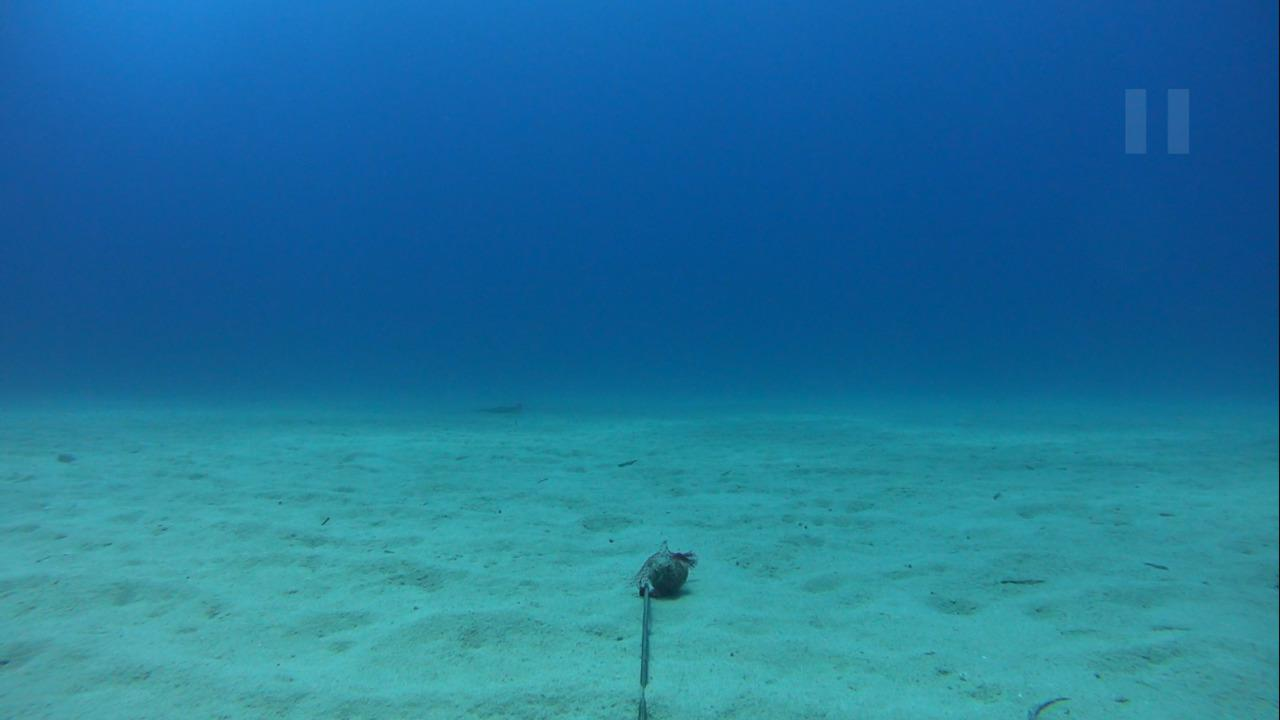myliobatis: (469, 394, 521, 417)
